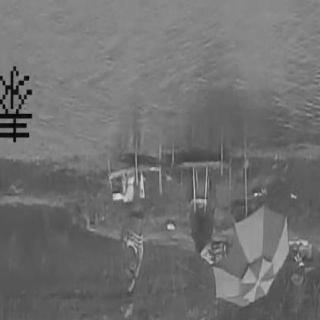other: (210, 197, 293, 304)
